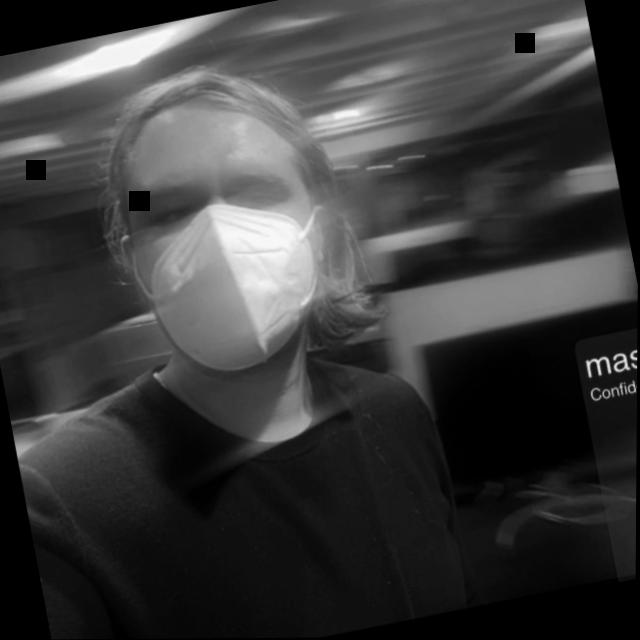Mask: (83, 38, 410, 424)
